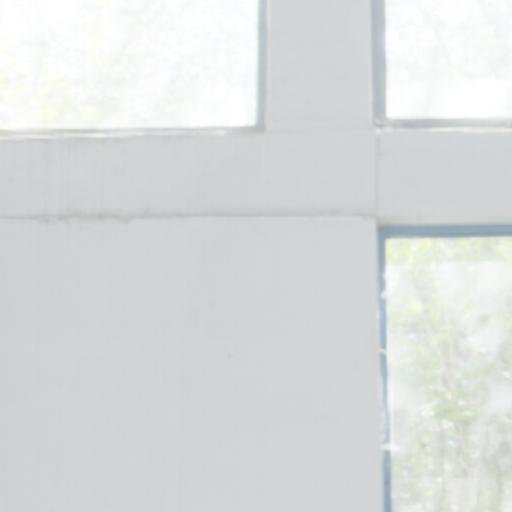nothing: (3, 1, 511, 512)
